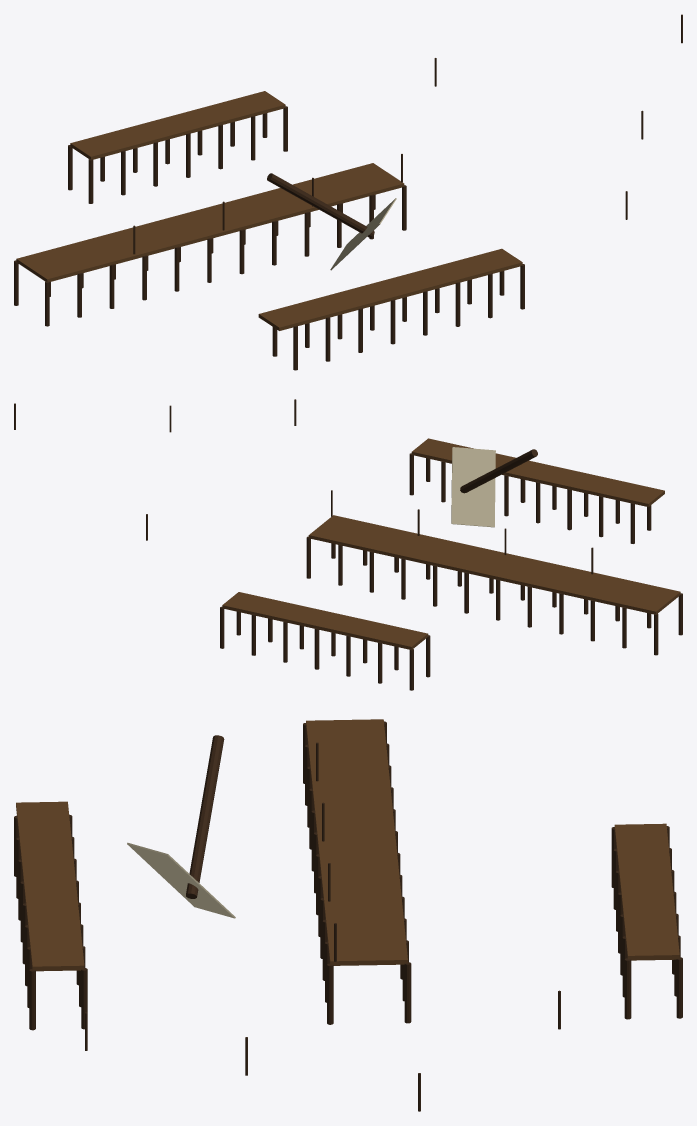
The model's file is frost_harbour_lod1.glb.
The picture shows the model from 3 angles, top to bottom: view 1: azimuth 30°, elevation 25°; view 2: azimuth 150°, elevation 25°; view 3: azimuth 270°, elevation 25°; orthographic projection. The views are drawn at different scales.
Parts seen in each view (by area): view 1: geometry_0; view 2: geometry_0; view 3: geometry_0.
Boxes of the visible parts, bbox=[...] form: geometry_0: bbox=[14, 14, 682, 370]; geometry_0: bbox=[14, 399, 682, 690]; geometry_0: bbox=[14, 719, 682, 1111].
Bounding box in the file's own units: 81.92 × 14.82 × 51.65.
